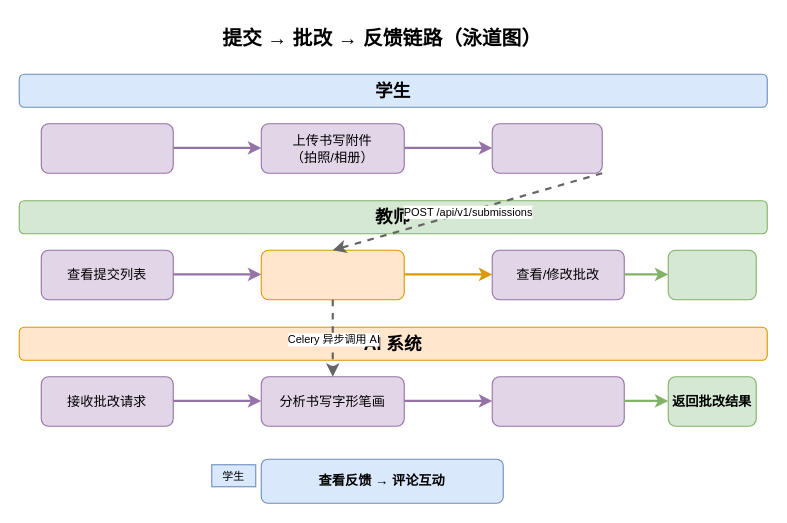
This 787x523 diagram has some shape labels left out. The shapes that lost their labels are listed below. From the top down, each one's centre as x and y in pixels, then its label:
(106,148): 查看已发布作业
(546,148): 点击提交
(332,274): 触发 AI 批改
(711,274): 发布反馈给学生
(557,401): 生成评价反馈
